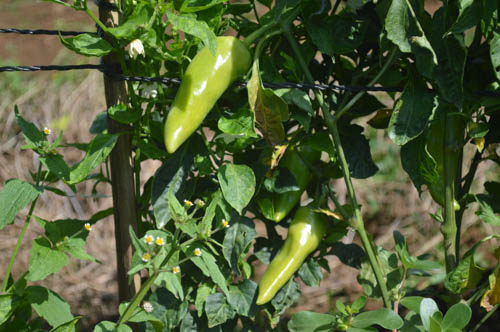ChiliPepper: (142, 29, 255, 158), (253, 202, 334, 304), (260, 118, 330, 220)
